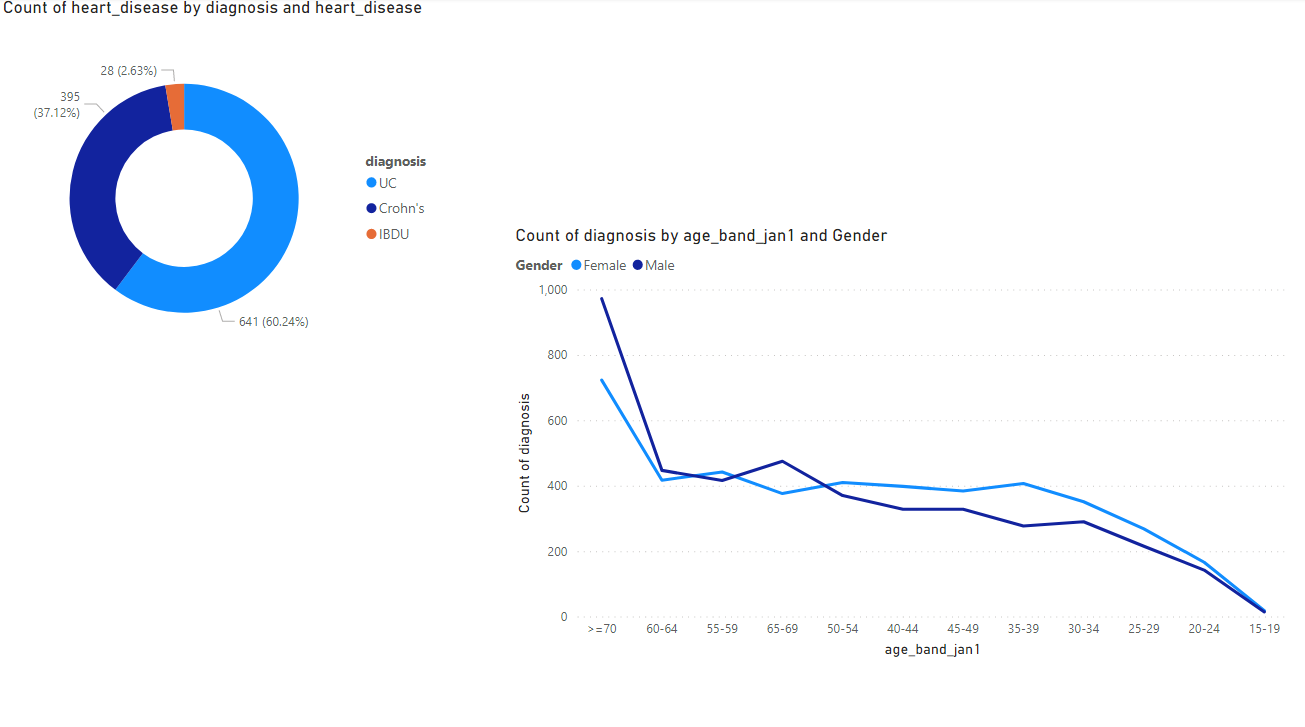

The page's visual inventory and layout, read from the dashboard file:
{"tool":"powerbi","page":{"name":"Page 2","canvas":[1280,720],"ordinal":1},"visuals":[{"type":"donutChart","fields":{"Category":["in.diagnosis"],"Y":["CountNonNull(in.heart_disease)"],"Series":["in.heart_disease"]},"box":[0,0,442.2,374.9],"z":0},{"type":"lineChart","fields":{"Series":["in.Gender"],"Category":["in.age_band_jan1"],"Y":["CountNonNull(in.diagnosis)"]},"box":[501.7,221.9,765.8,428.1],"z":1000}]}

Visuals, with their boxes in screenshot pixels (x1, y1, x2, y2), scaled from the page's 1280x720 canvas onto the 1305x727 screenshot:
donutChart - in.diagnosis x CountNonNull(in.heart_disease): crop(0, 0, 451, 379)
lineChart - in.Gender x in.age_band_jan1: crop(511, 224, 1292, 656)
